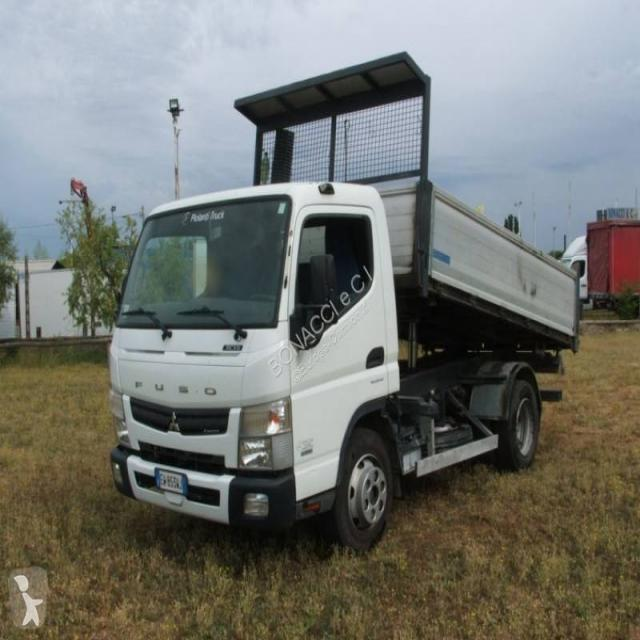truck: (106, 70, 578, 543)
